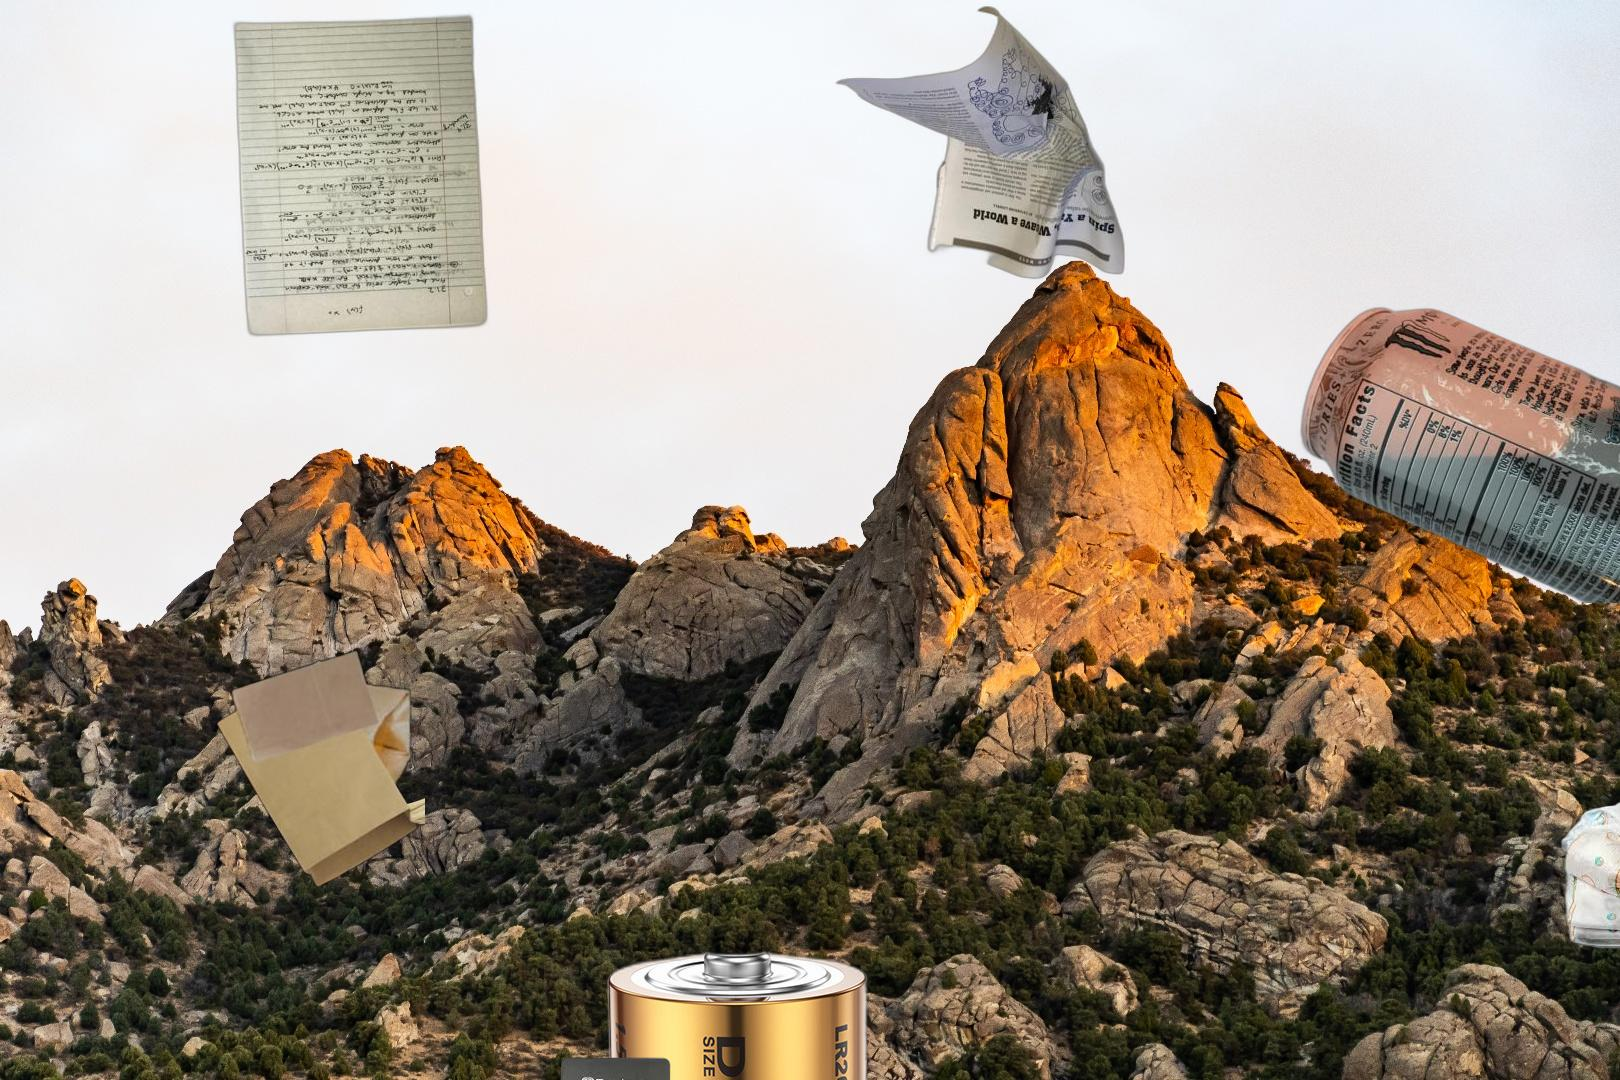battery: (599, 944, 1197, 1080), (558, 1055, 673, 1080)
metal-cans: (1296, 304, 1620, 603)
paper: (229, 12, 492, 337), (833, 4, 1129, 280)
paper-bag: (215, 647, 425, 890)
trash: (1559, 796, 1620, 951)
